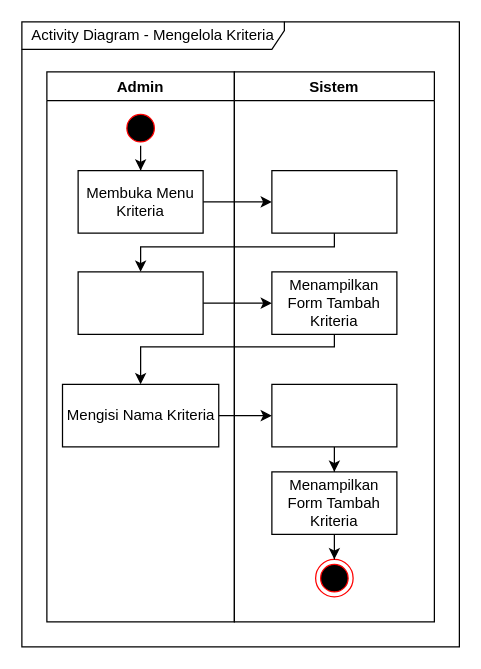
Some shapes in this 481 by 669 pixel diagram are drawn without their labels. The centre of each missing label's shape, as x and y in pixels:
Memilih Tambah Kriteria: (x=140, y=302)
Menampilkan Halaman Kriteria: (x=334, y=201)
Menyimpan Data Kriteria: (x=334, y=415)
